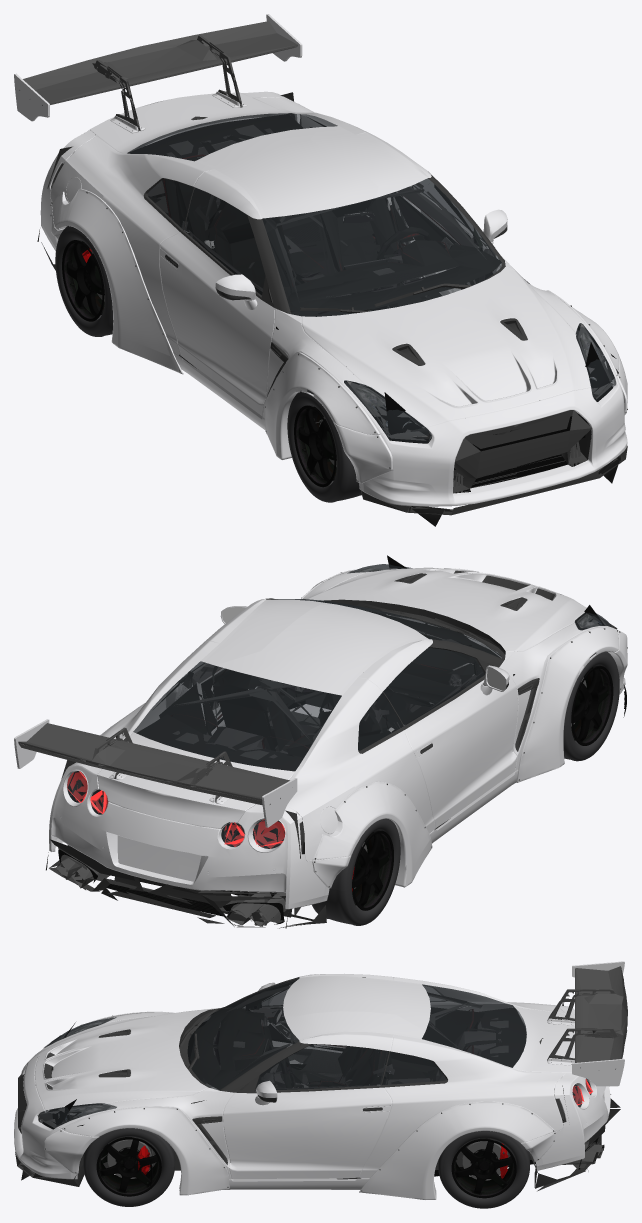
Rendered from kaze_gt35.glb.
3 renders of one model, top to bottom at view 1: azimuth 30°, elevation 25°; view 2: azimuth 150°, elevation 25°; view 3: azimuth 270°, elevation 25°, orthographic. The views are drawn at different scales.
Parts seen in each view (by area): view 1: Body_Paint, Body, Wheel_FR, Wheel_RR; view 2: Body_Paint, Body, Wheel_RR, Wheel_FR; view 3: Body_Paint, Body, Wheel_FL, Wheel_RL.
Part boxes in pixels (left/top/right/bottom): Body_Paint: left=14, top=14, right=627, bottom=506; Body: left=19, top=21, right=627, bottom=526; Wheel_FR: left=287, top=381, right=372, bottom=502; Wheel_RR: left=55, top=225, right=113, bottom=336; Body_Paint: left=14, top=567, right=627, bottom=909; Body: left=18, top=555, right=627, bottom=928; Wheel_RR: left=312, top=818, right=400, bottom=925; Wheel_FR: left=563, top=651, right=619, bottom=761; Body_Paint: left=14, top=961, right=624, bottom=1199; Body: left=15, top=966, right=627, bottom=1191; Wheel_FL: left=83, top=1128, right=175, bottom=1206; Wheel_RL: left=438, top=1131, right=529, bottom=1208.
Size of what is drawn, in the model's own units: 2.2 by 1.34 by 4.71.
53 materials, 15 textured.
